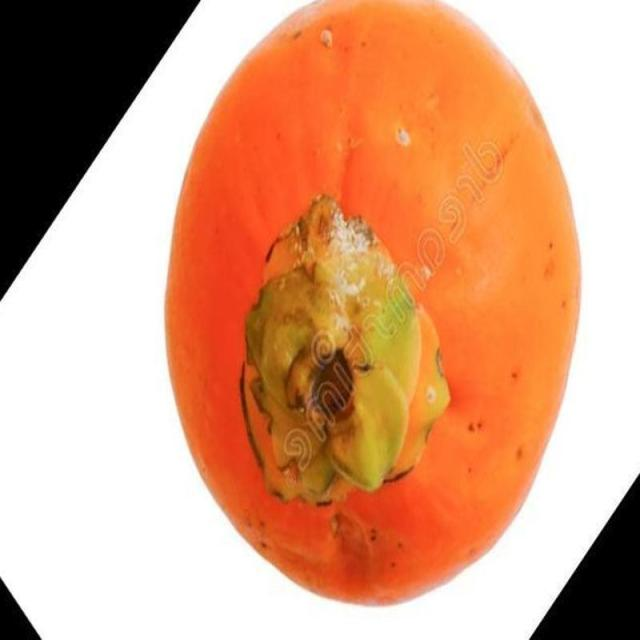good: (165, 0, 582, 609)
